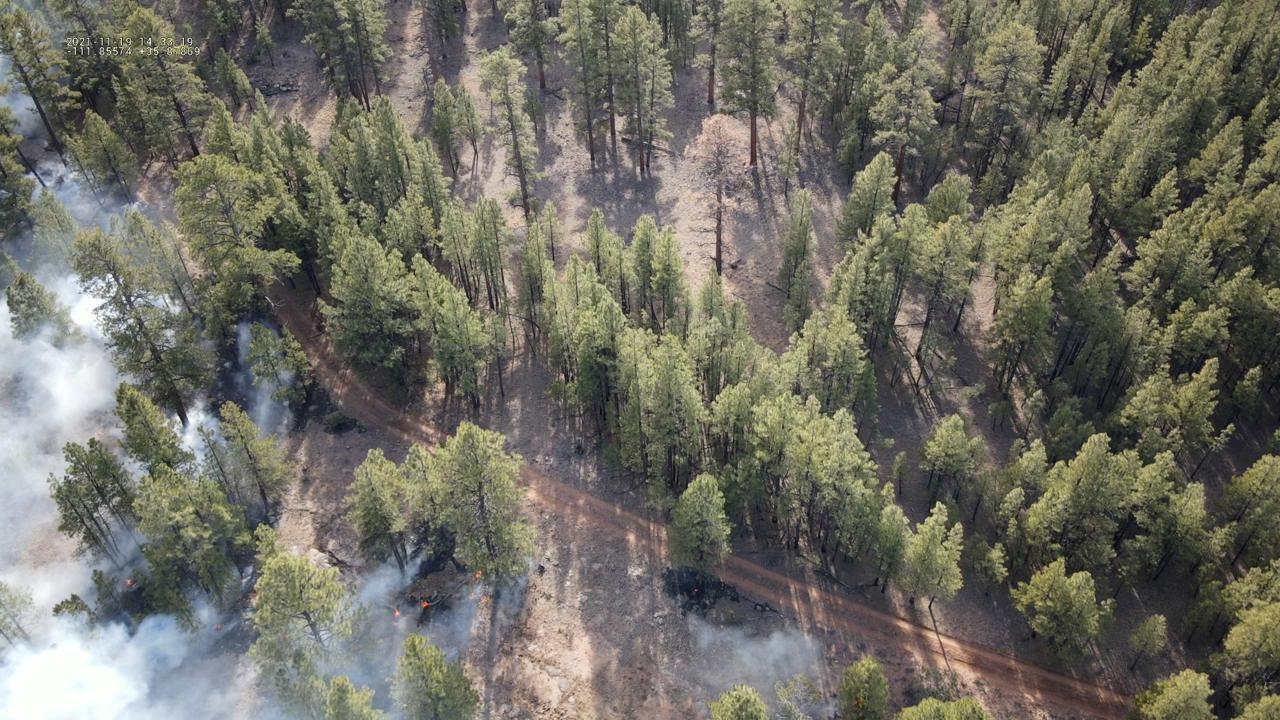fire: (471, 569, 483, 583), (416, 600, 429, 609), (136, 554, 146, 564), (480, 594, 491, 603), (393, 609, 401, 619), (222, 598, 233, 604)
smoke: (0, 160, 535, 720), (685, 612, 836, 720), (0, 0, 69, 135)
